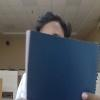notebook: (24, 29, 99, 99)
